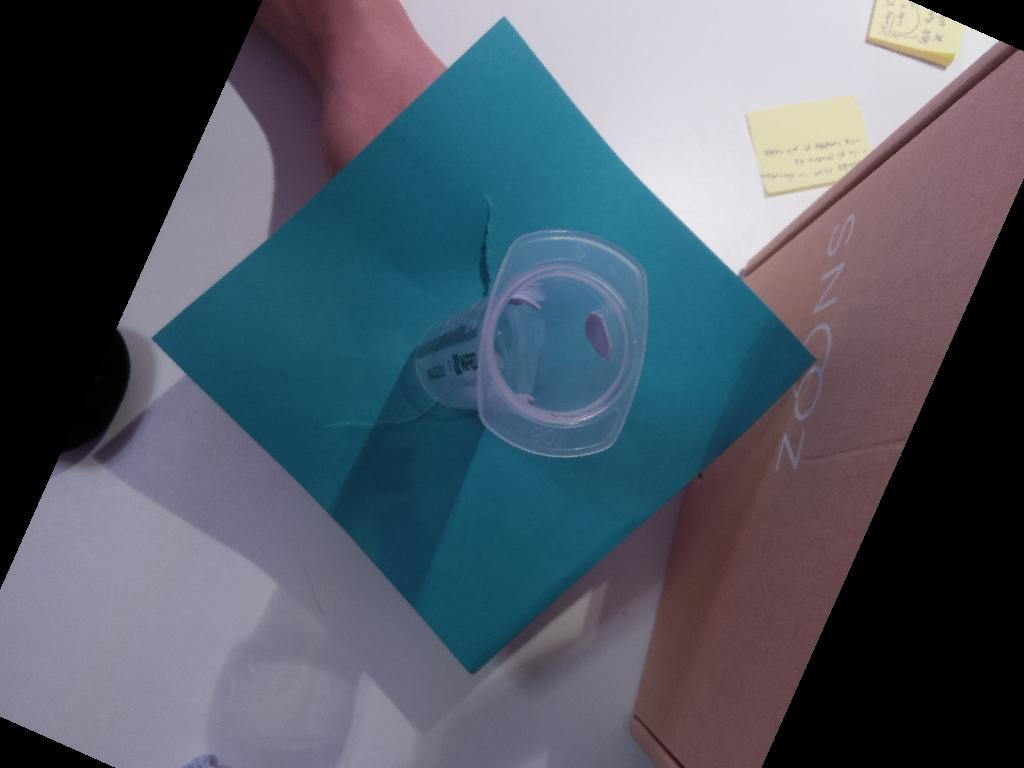dirty: (476, 229, 650, 458)
